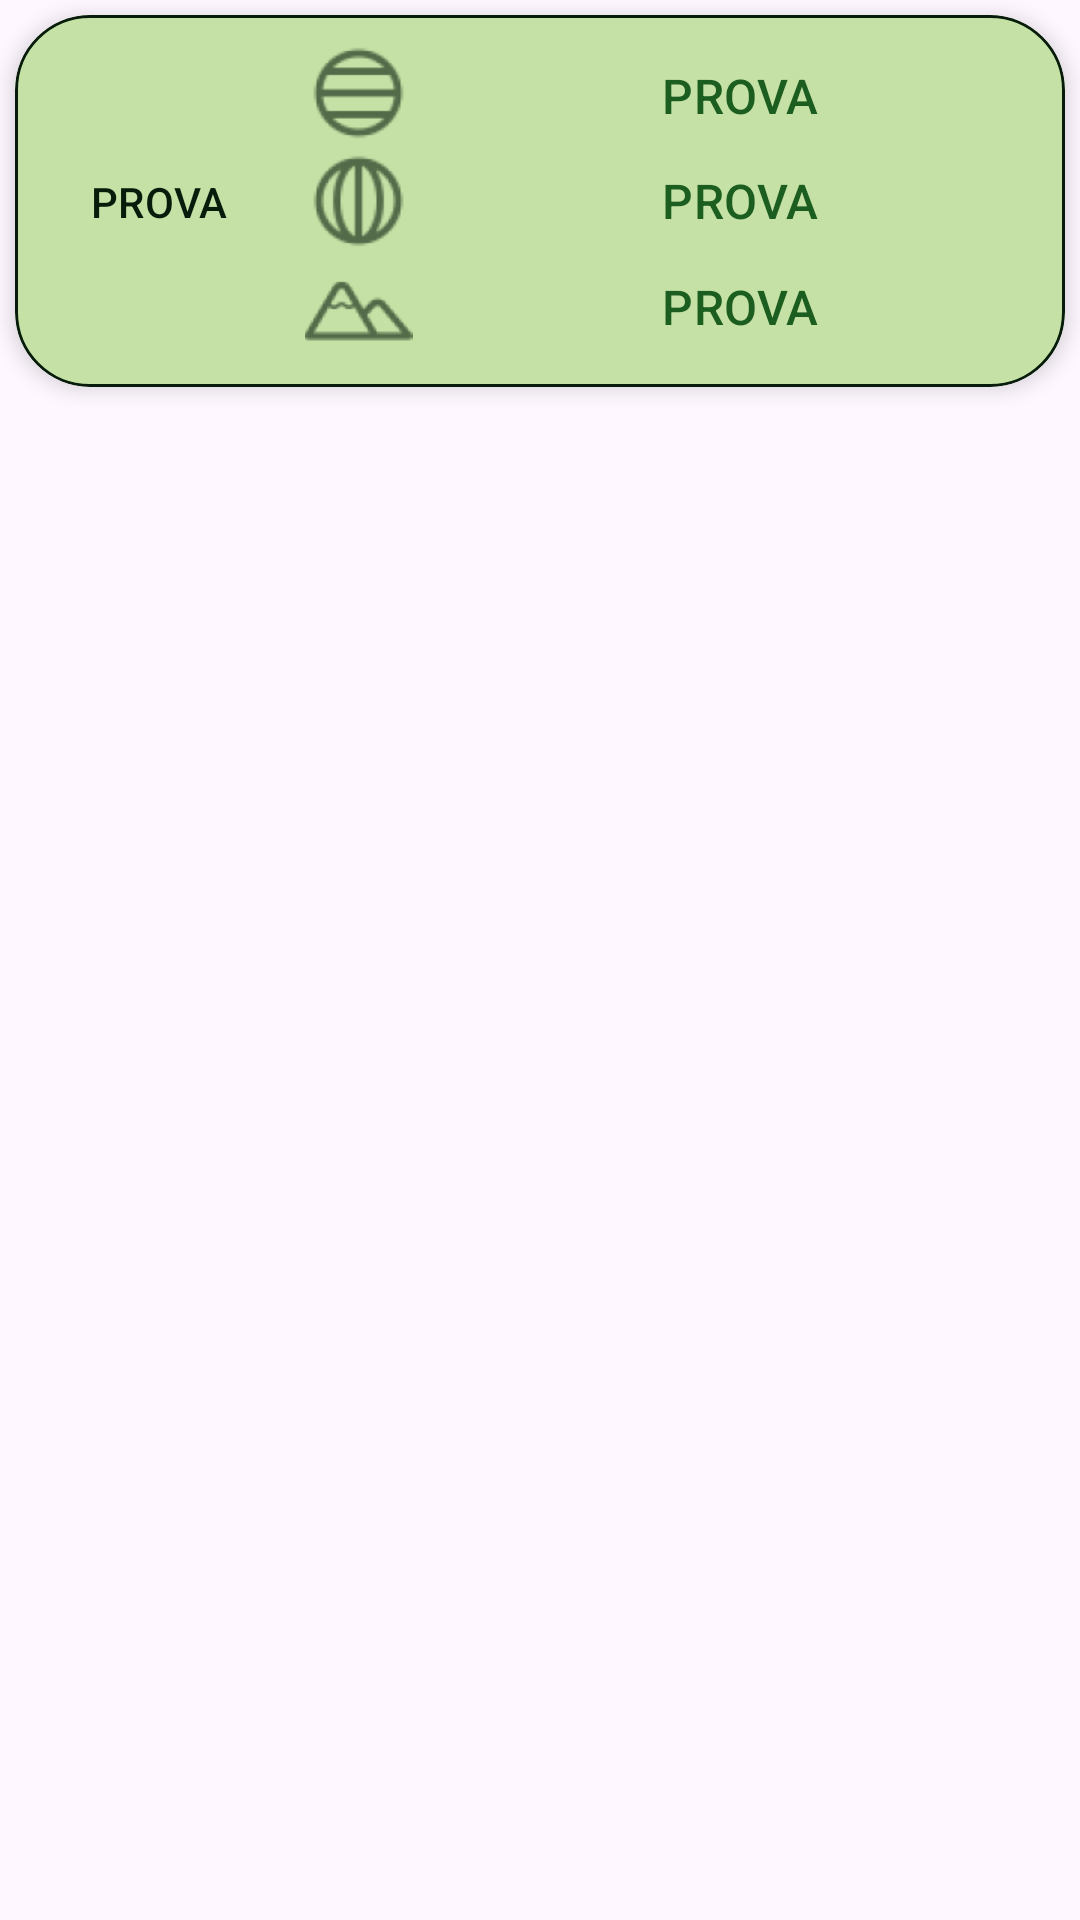

Named icons in this screenshot (1080x1920) and their centers, point (x, y):
altitude: point (359, 311)
latitude: point (358, 93)
longitude: point (358, 201)
